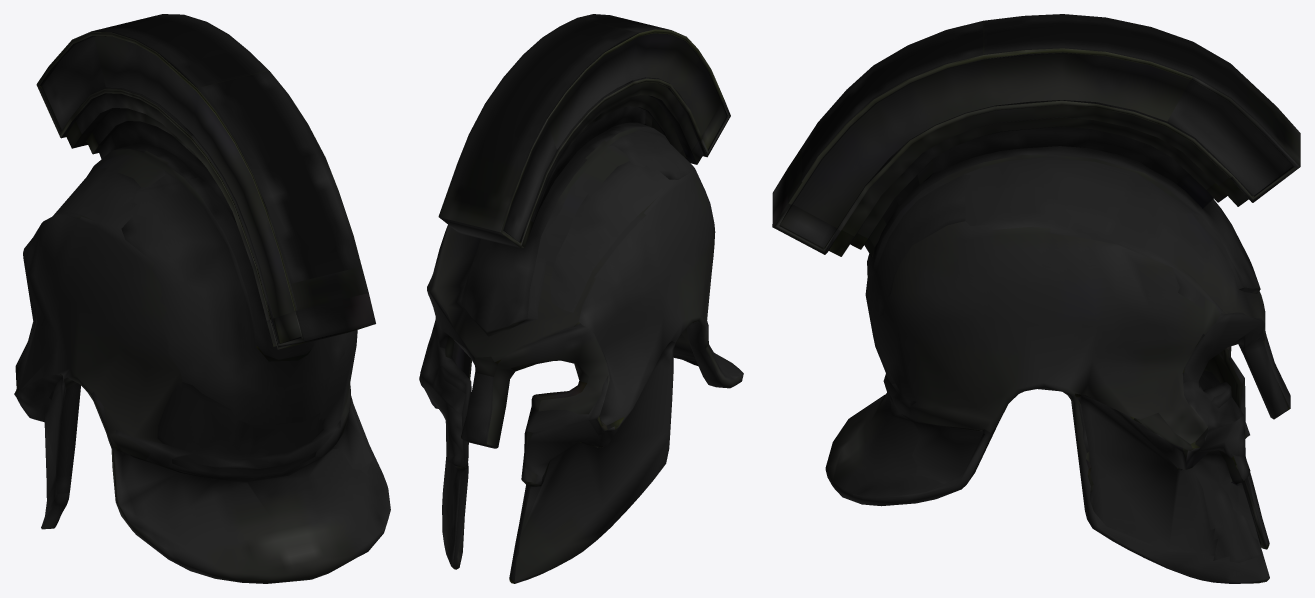
The model's file is helmet.glb.
3 views of the same model, side by side, from view 1: azimuth 30°, elevation 25°; view 2: azimuth 150°, elevation 25°; view 3: azimuth 270°, elevation 25° (orthographic). The views are drawn at different scales.
Parts seen in each view (by area): view 1: Helmet__0; view 2: Helmet__0; view 3: Helmet__0.
Boxes of the visible parts, box(x1,y1,x2,y2) form: Helmet__0: box(14, 14, 390, 583); Helmet__0: box(419, 14, 743, 583); Helmet__0: box(772, 14, 1300, 583).
Size of the model in its own units: 18.39 by 37.54 by 33.66.
1 material, 1 textured.
